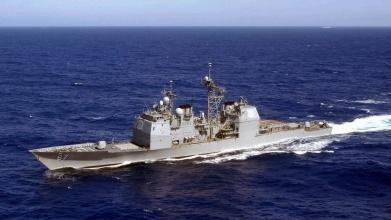warship: (31, 56, 335, 174)
